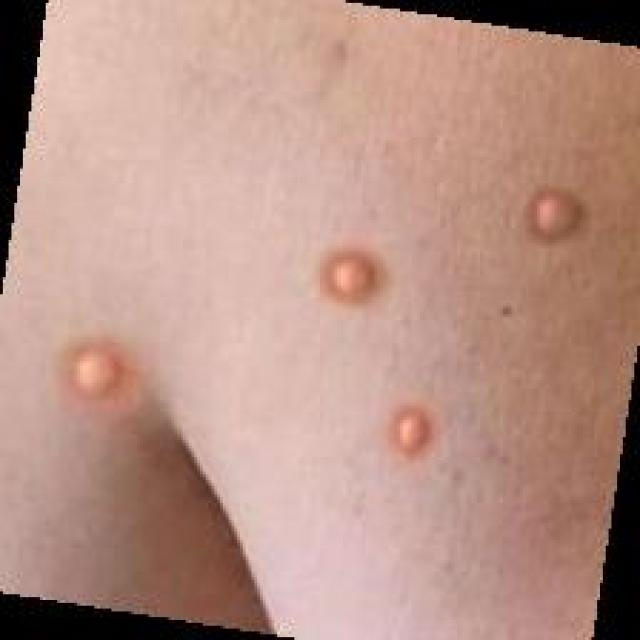monkeypox: (24, 47, 614, 640)
